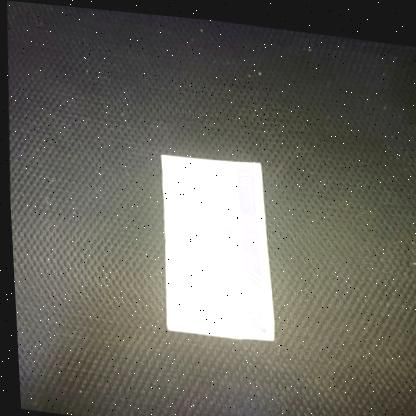ten-back-vef: (154, 149, 279, 340)
